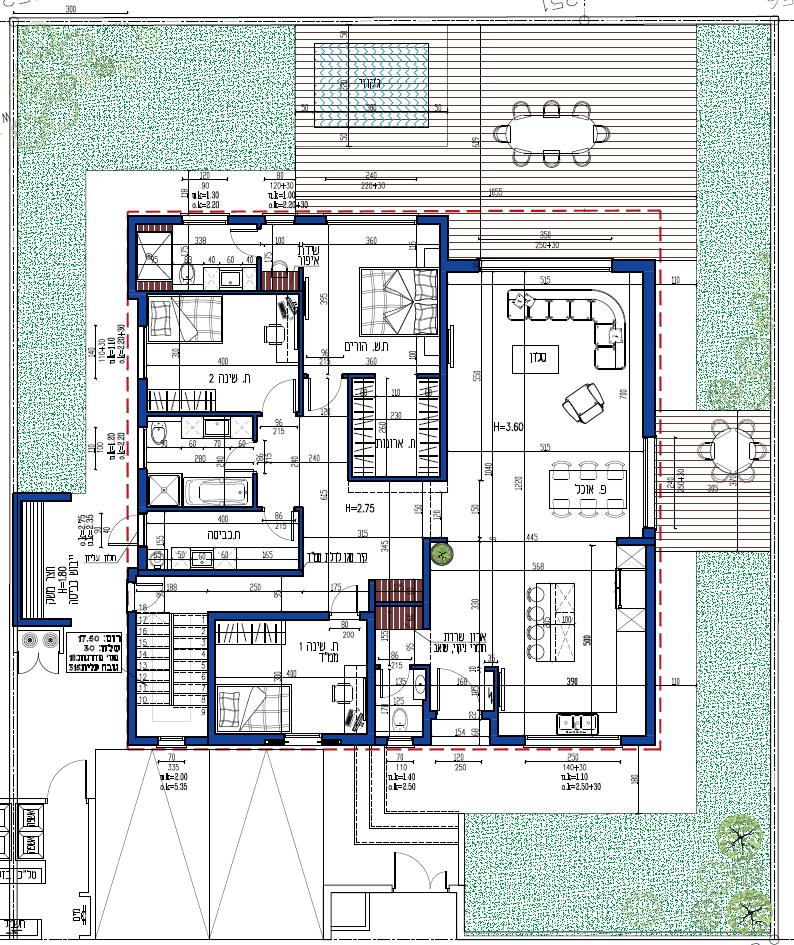door: (433, 666, 485, 708), (258, 377, 298, 410), (305, 380, 345, 413), (220, 438, 254, 475), (227, 226, 258, 259), (261, 515, 298, 542), (377, 672, 412, 700), (330, 583, 364, 608)
room: (297, 214, 447, 379), (207, 612, 373, 746), (137, 291, 303, 416)
wall: (642, 260, 655, 437), (646, 537, 656, 744), (127, 612, 137, 745), (208, 611, 330, 621), (209, 734, 283, 746), (613, 258, 655, 272)
window: (478, 258, 612, 274), (642, 437, 656, 527), (526, 734, 620, 747), (327, 213, 416, 226), (136, 327, 150, 380), (183, 214, 227, 226), (284, 733, 322, 746), (137, 427, 148, 469), (265, 214, 295, 225), (386, 736, 413, 748), (137, 514, 145, 548), (159, 737, 185, 747)
